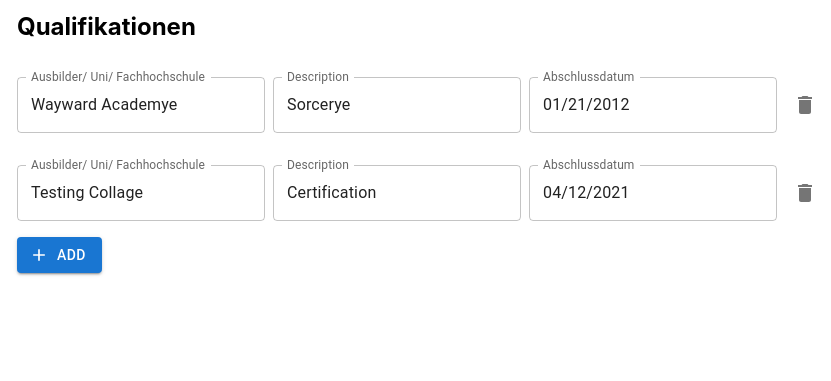
it: test qualifications componente › does render clear button when add button has been clicked
Click the button "Add".
click(59, 255)  # box [17,237,102,273]
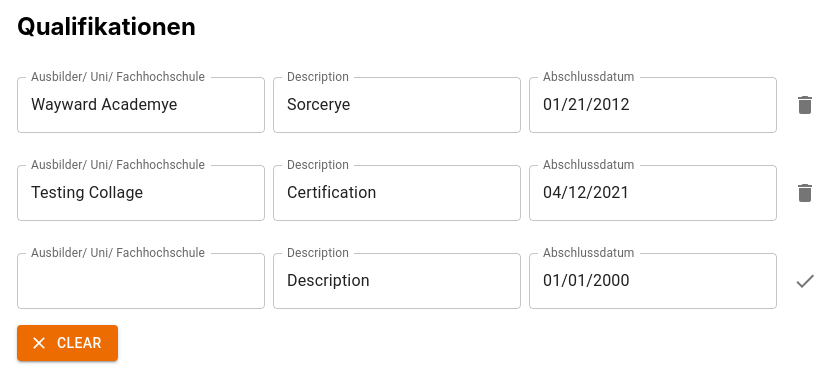
Check: the button "Clear" is shown, box [17,325,118,361]
